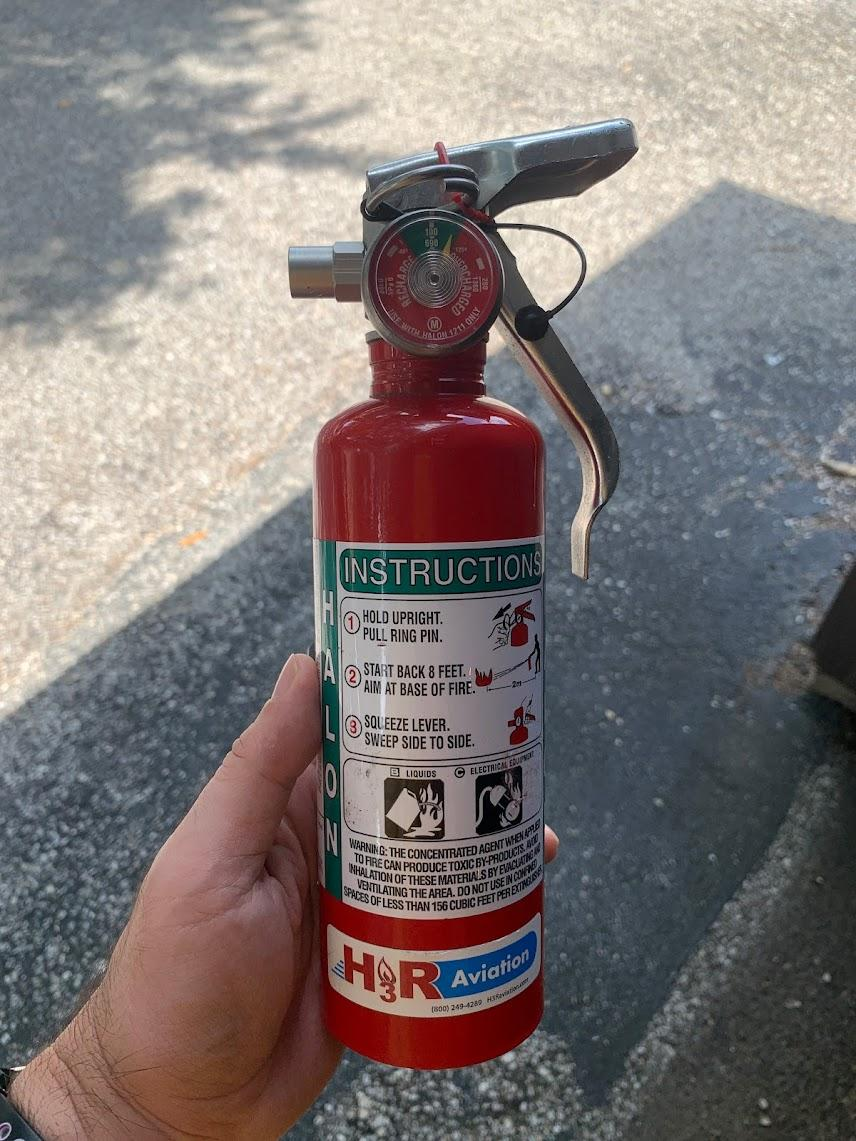Fire Extinguisher: (303, 113, 673, 1077)
